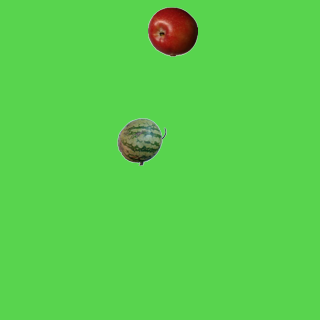Apple Braeburn: (147, 6, 197, 56)
Watermelon: (116, 116, 166, 166)
